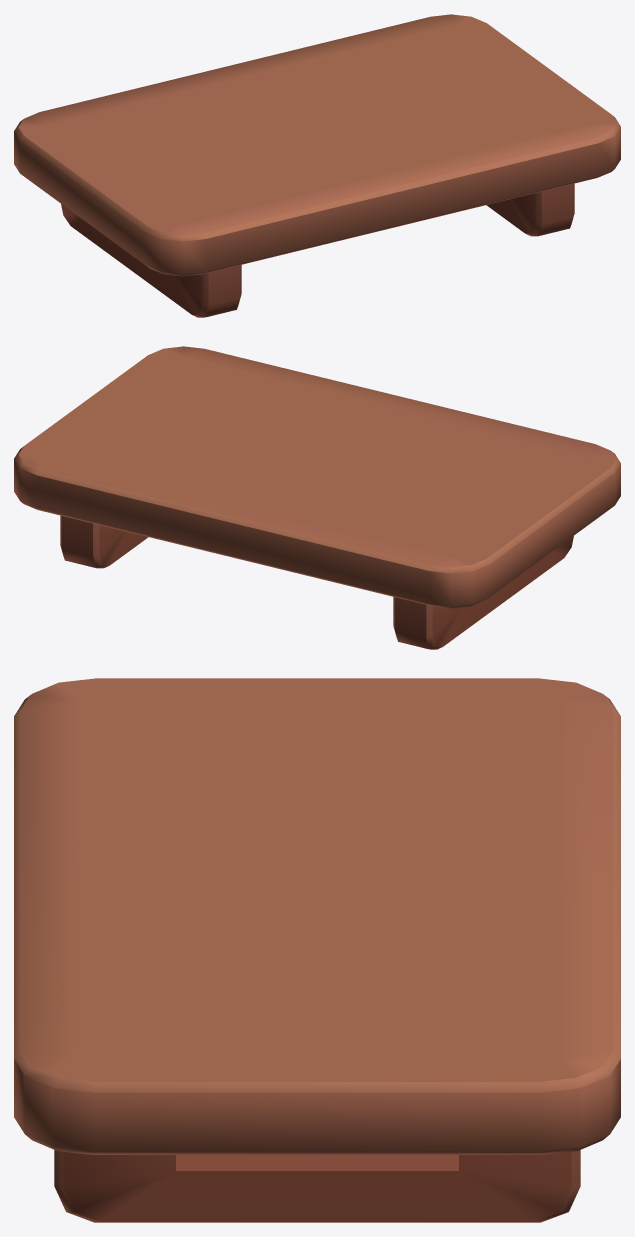
The model's file is kay-mesa-centro.gltf.
The picture shows the model from 3 angles, top to bottom: view 1: azimuth 30°, elevation 25°; view 2: azimuth 150°, elevation 25°; view 3: azimuth 270°, elevation 25°; orthographic projection. The views are drawn at different scales.
Parts seen in each view (by area): view 1: table_low; view 2: table_low; view 3: table_low.
Boxes of the visible parts, x1,y1,x2,y2 form: table_low: (14,14,620,317); table_low: (14,346,620,649); table_low: (14,678,620,1222).
Size of the model in its own units: 1.56 by 0.3249 by 0.9749.
1 material, 1 textured.
